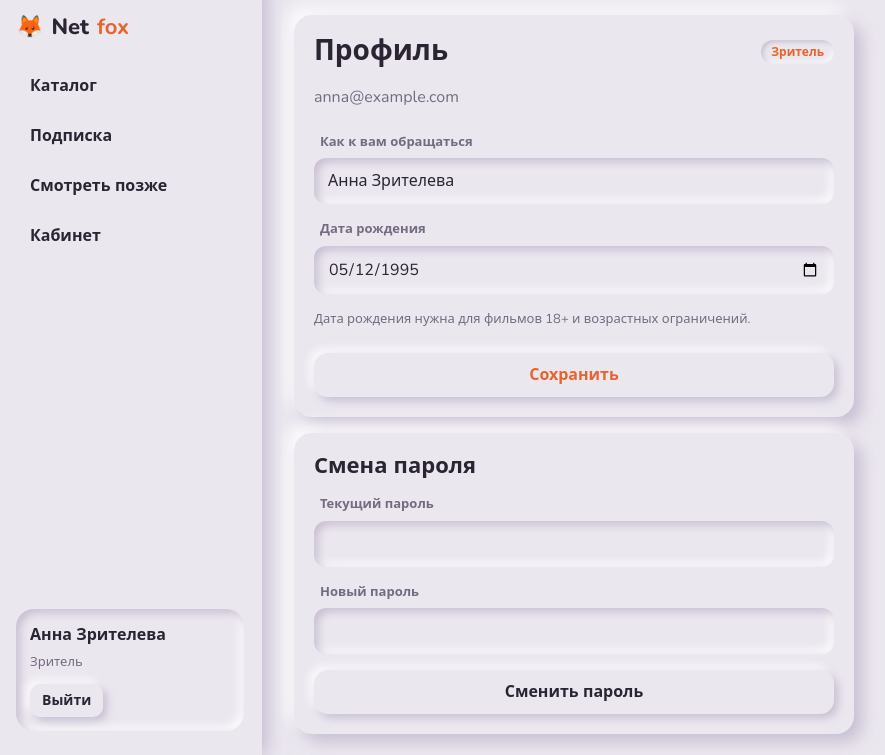
Test case: зритель: от витрины до просмотра › смена пароля
Type "wrong-one" into the password field labelled "Текущий пароль" at (574,544), box [314,521,834,567]
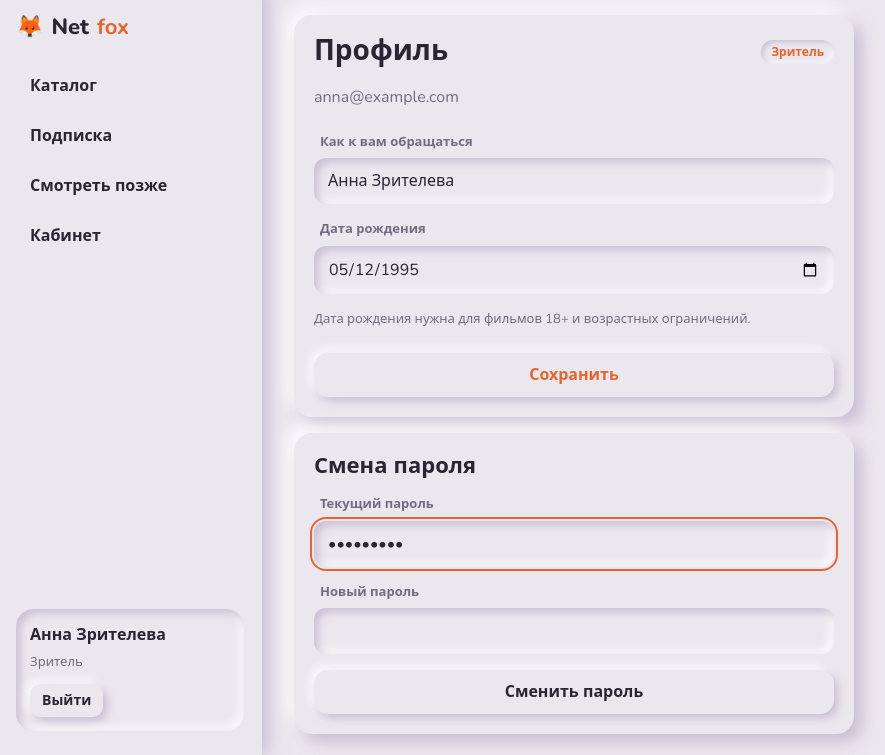
Type "new-password-2026" into the password field labelled "Новый пароль" at (574,632), box [314,608,834,654]
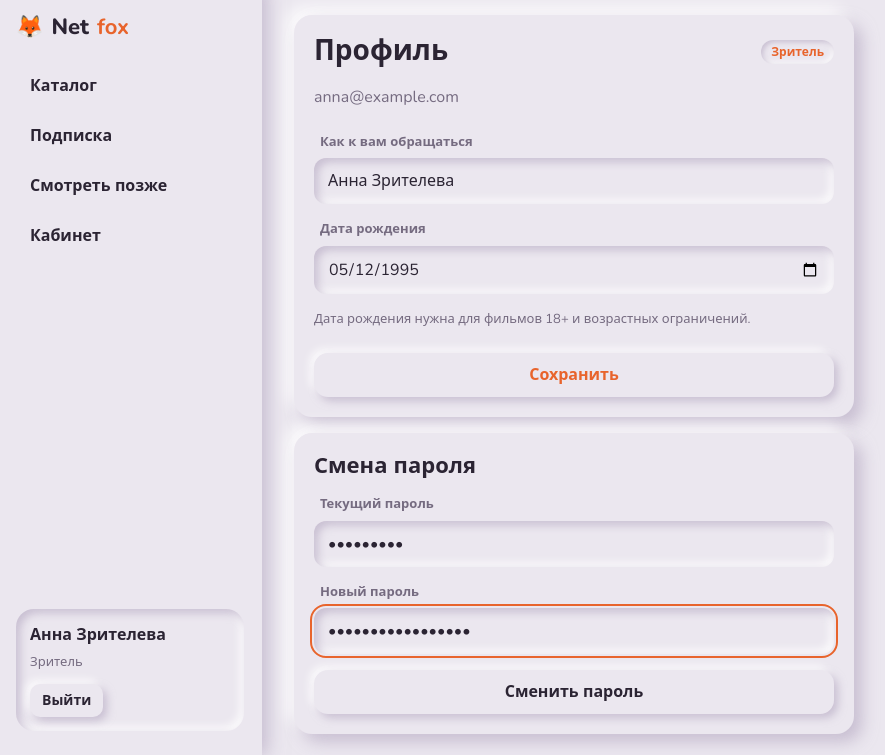
Click the button "Сменить пароль" at (574,692), box [314,670,834,714]
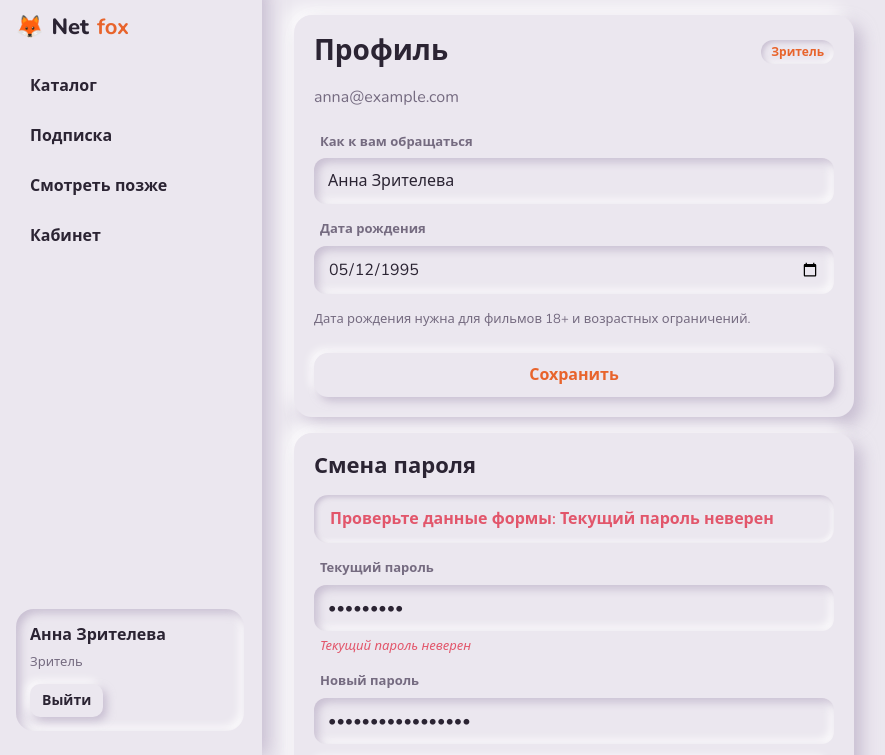
Result: the text "Текущий пароль неверен" is shown at [320,637,471,655]
Type "password123" into the password field labelled "Текущий пароль" at (574,608), box [314,585,834,631]
(page scrolled)
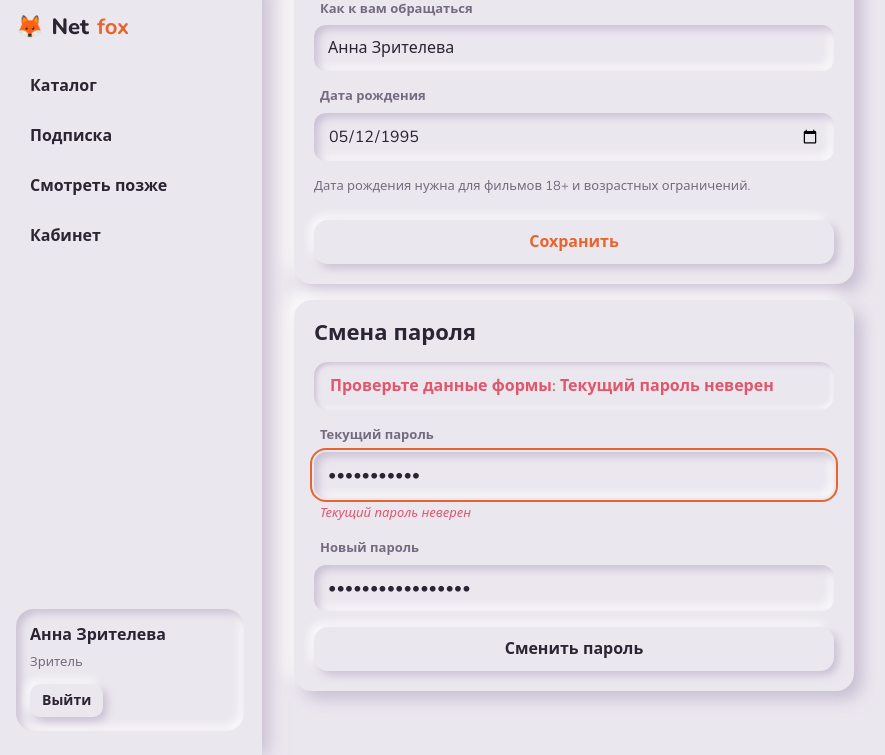
Click the button "Сменить пароль" at (574,649), box [314,627,834,671]
(page scrolled)
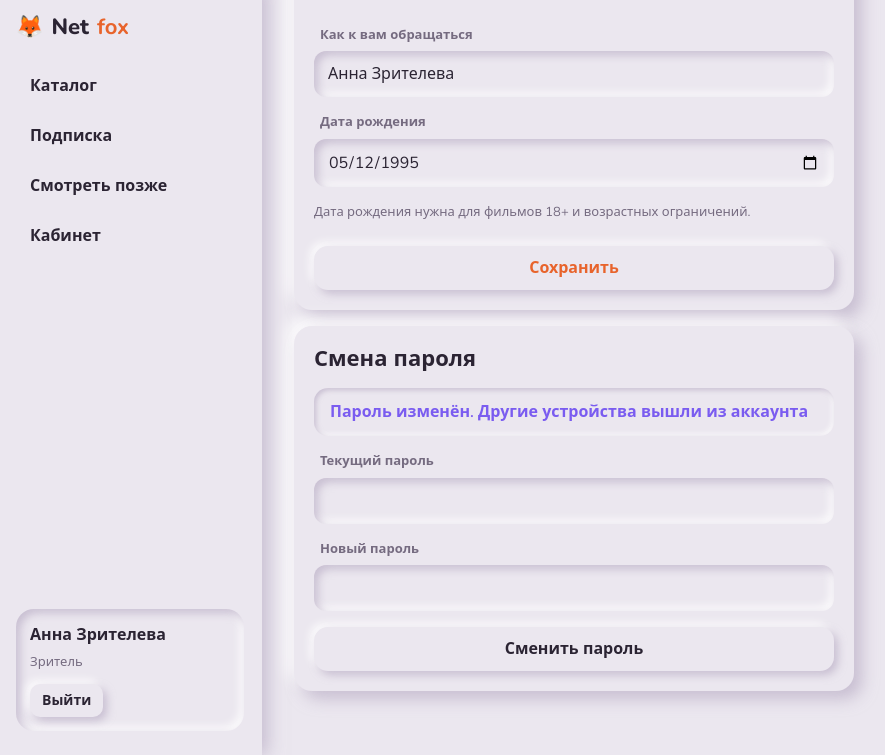
Result: the text "Пароль изменён. Другие устройства вышли из аккаунта" is shown at [314,388,834,436]
